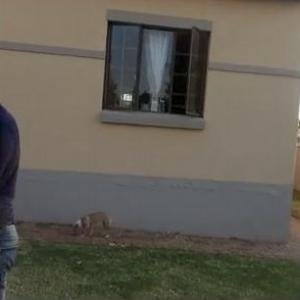follow: (0, 34, 24, 299)
null: (68, 207, 126, 241)
